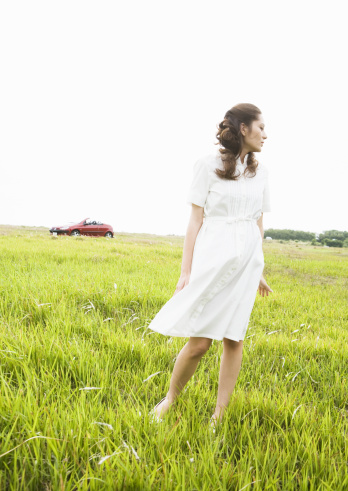em pe: (142, 85, 281, 425)
